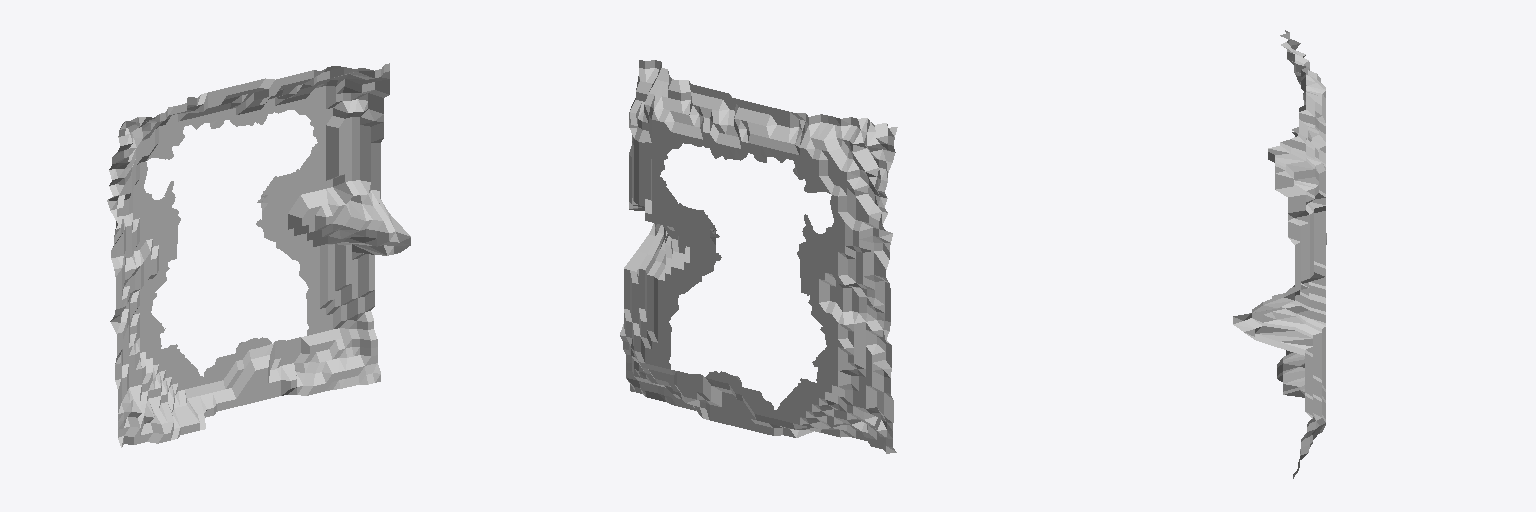
The model's file is moutains2.obj.
The picture shows the model from 3 angles: view 1: azimuth 30°, elevation 25°; view 2: azimuth 150°, elevation 25°; view 3: azimuth 270°, elevation 25°; orthographic projection.
Parts seen in each view (by area): view 1: Plane; view 2: Plane; view 3: Plane.
Part boxes in pixels (bbox=[...]): Plane: bbox=[107, 63, 410, 447]; Plane: bbox=[620, 60, 897, 453]; Plane: bbox=[1233, 30, 1326, 478].
Size of the model in its own units: 84.93 by 99.98 by 26.29.